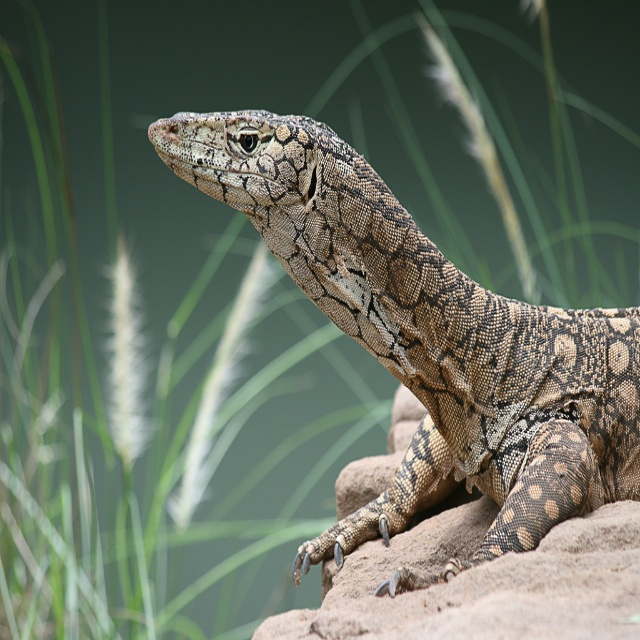Lizard: (160, 73, 640, 608)
